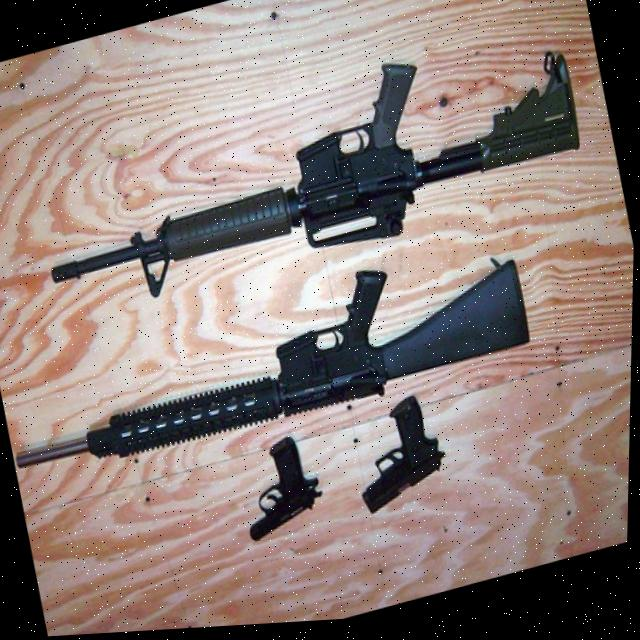firearm: (25, 21, 592, 325), (0, 236, 536, 490)
pistol: (346, 395, 454, 521), (234, 435, 329, 544)
